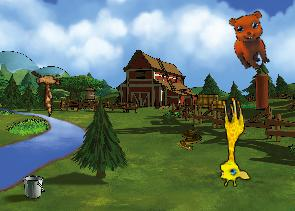bear: (221, 5, 283, 75)
eagle: (19, 58, 76, 117)
giraffe: (210, 95, 251, 188)
